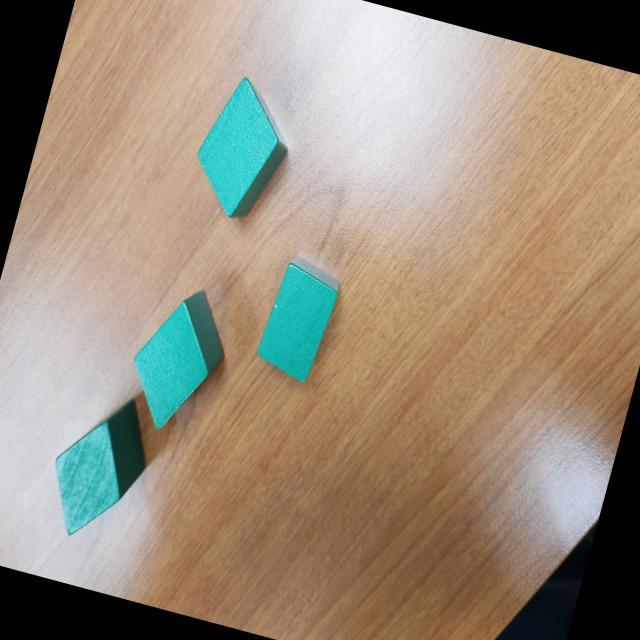green: (36, 382, 162, 551), (116, 274, 240, 443), (180, 66, 304, 230), (251, 251, 345, 387)
